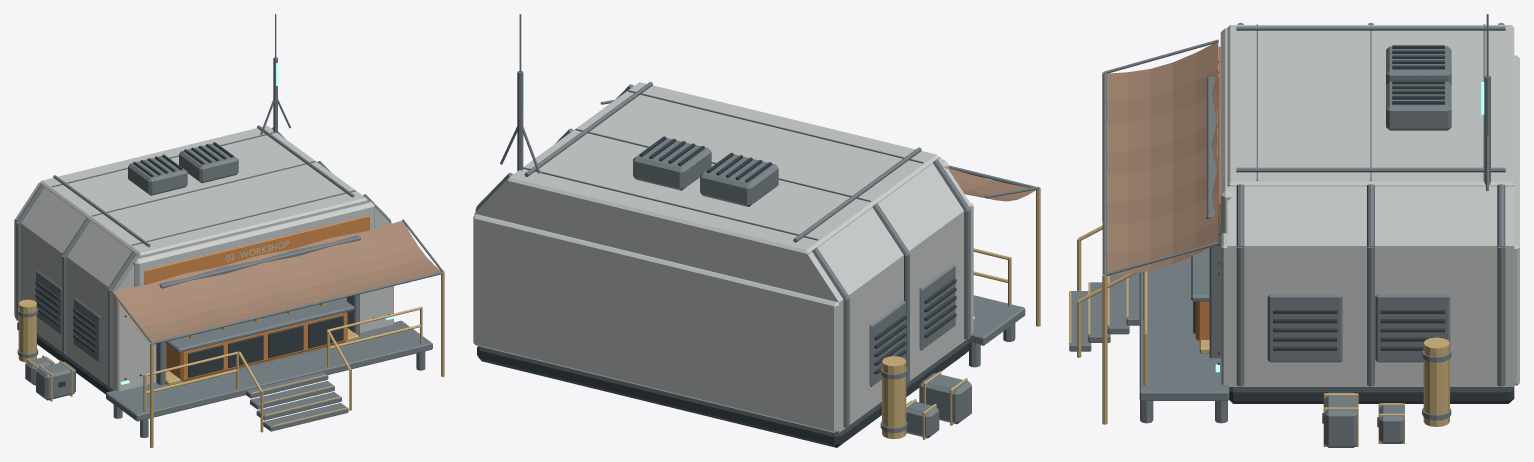
The model's file is workshop.glb.
3 renders of one model, left to right at view 1: azimuth 30°, elevation 25°; view 2: azimuth 150°, elevation 25°; view 3: azimuth 270°, elevation 25°, orthographic. The views are drawn at different scales.
Visible parts, largest first — view 1: workshop_ceramic, workshop_edge, workshop_canvas, workshop_dark, workshop_brass, workshop_orange; view 2: workshop_ceramic, workshop_edge, workshop_dark, workshop_brass, workshop_canvas; view 3: workshop_ceramic, workshop_edge, workshop_canvas, workshop_dark, workshop_brass, workshop_orange.
Boxes of the visible parts, x1,y1,x2,y2 form: workshop_ceramic: [14, 125, 393, 391]; workshop_edge: [16, 14, 443, 437]; workshop_canvas: [113, 220, 440, 341]; workshop_dark: [17, 142, 389, 394]; workshop_brass: [18, 271, 444, 447]; workshop_orange: [144, 215, 369, 381]; workshop_ceramic: [473, 82, 973, 433]; workshop_edge: [475, 14, 1039, 438]; workshop_dark: [477, 136, 969, 447]; workshop_brass: [882, 187, 1040, 439]; workshop_canvas: [949, 168, 1035, 201]; workshop_ceramic: [1217, 25, 1519, 386]; workshop_edge: [1069, 14, 1505, 447]; workshop_canvas: [1106, 42, 1218, 275]; workshop_dark: [1193, 45, 1514, 427]; workshop_brass: [1069, 72, 1449, 446]; workshop_orange: [1195, 46, 1220, 342].
Size of the model in its own units: 9.56 by 7.27 by 7.54.
